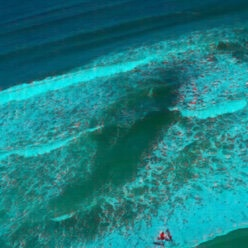rip_current: (68, 54, 202, 214)
